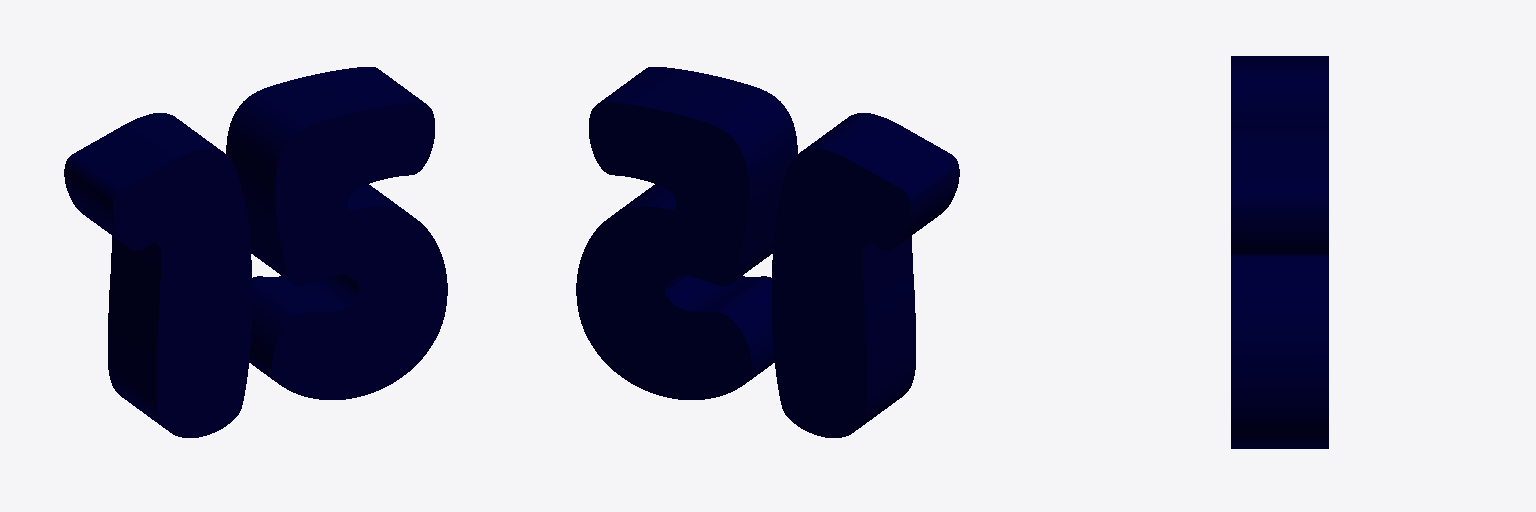
File: Number15.obj
3 renders of one model, left to right at view 1: azimuth 30°, elevation 25°; view 2: azimuth 150°, elevation 25°; view 3: azimuth 270°, elevation 25°, orthographic.
Visible parts, largest first — view 1: Text; view 2: Text; view 3: Text.
Part boxes in pixels (x1,y1,x2,y2): Text: (64, 67, 447, 437); Text: (576, 67, 959, 437); Text: (1231, 56, 1328, 448).
Bounding box in the file's own units: 0.7129 × 0.5856 × 0.18.